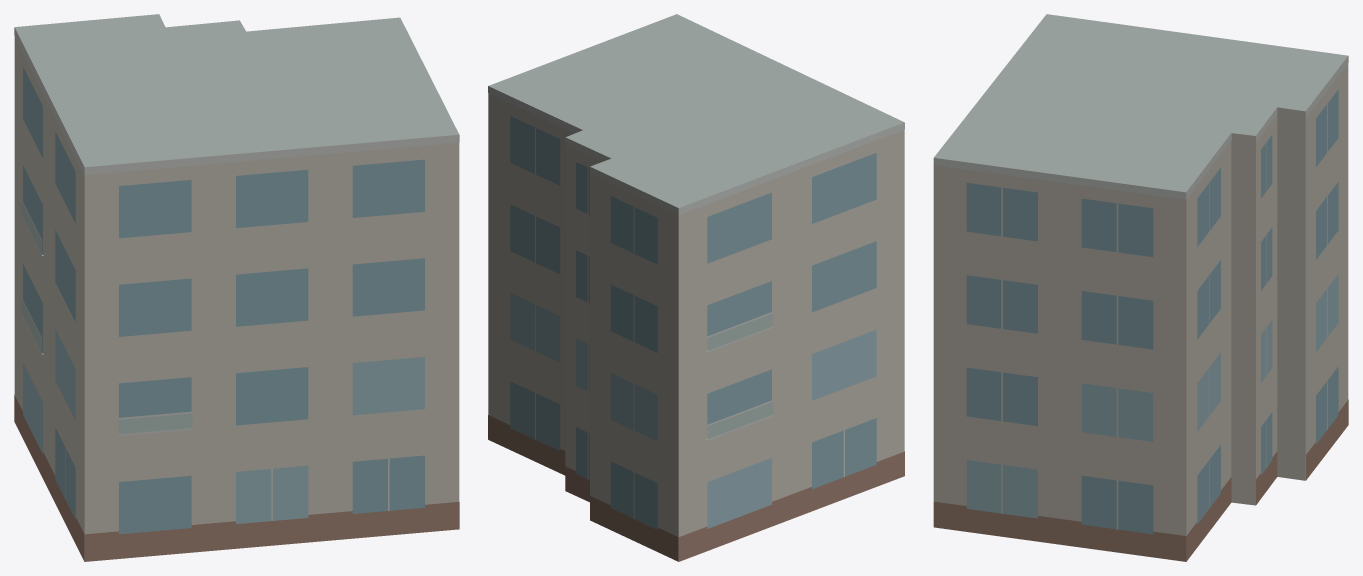
The model's file is survey-upis-32670493.glb.
3 views of the same model, side by side, from view 1: azimuth 30°, elevation 25°; view 2: azimuth 150°, elevation 25°; view 3: azimuth 270°, elevation 25° (orthographic). The views are drawn at different scales.
Parts seen in each view (by area): view 1: survey-upis-32670493.tmp; view 2: survey-upis-32670493.tmp; view 3: survey-upis-32670493.tmp.
Part boxes in pixels (x1,y1,x2,y2): survey-upis-32670493.tmp: (14,14,459,561); survey-upis-32670493.tmp: (488,14,904,561); survey-upis-32670493.tmp: (933,14,1348,561).
Size of the model in its own units: 12.64 by 12.2 by 12.42.
